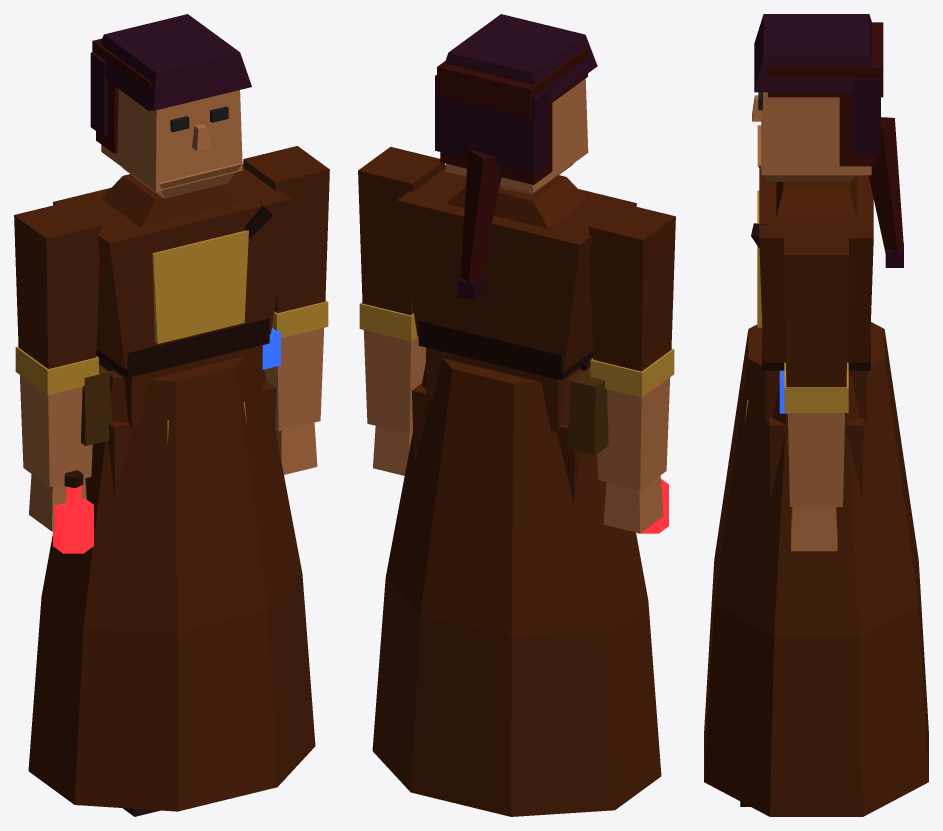
File: MercadoraTalia.fbx
The picture shows the model from 3 angles, left to right: view 1: azimuth 30°, elevation 25°; view 2: azimuth 150°, elevation 25°; view 3: azimuth 270°, elevation 25°; orthographic projection.
Parts seen in each view (by area): view 1: Body, ArmR, Head, ArmL, LegR, LegL; view 2: Body, Head, ArmR, ArmL, LegL, LegR; view 3: Body, Head, ArmL, LegL.
Part boxes in pixels (x1,y1,x2,y2): Body: [28, 164, 315, 811]; ArmR: [14, 201, 100, 553]; Head: [90, 14, 251, 198]; ArmL: [243, 146, 329, 474]; LegR: [108, 421, 159, 816]; LegL: [258, 381, 284, 780]; Body: [372, 164, 661, 816]; Head: [435, 14, 597, 300]; ArmR: [588, 203, 675, 533]; ArmL: [358, 146, 444, 475]; LegL: [412, 383, 429, 463]; LegR: [557, 425, 580, 502]; Body: [704, 168, 928, 816]; Head: [752, 14, 903, 267]; ArmL: [784, 228, 848, 551]; LegL: [740, 418, 863, 806].
Size of the model in its own units: 0.6817 by 1.67 by 0.4634.
